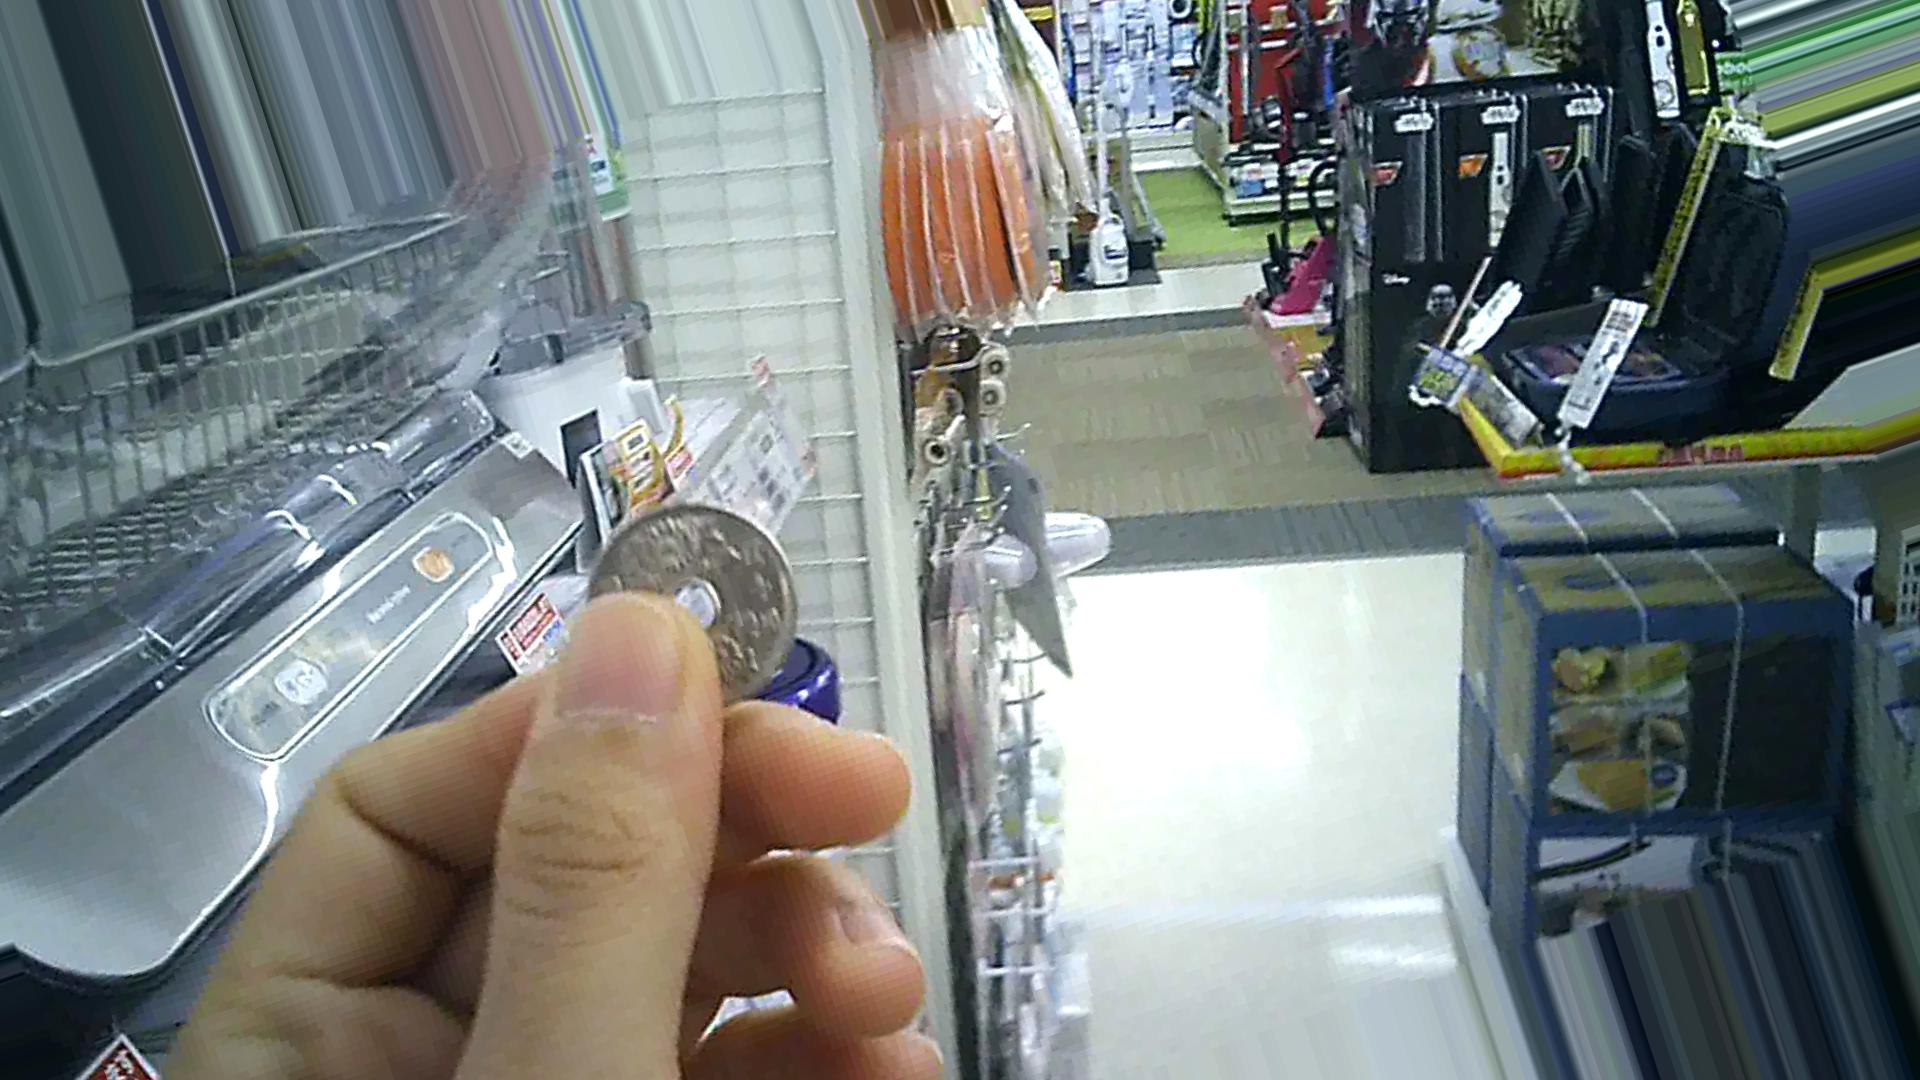50 Yen: (568, 502, 793, 698)
